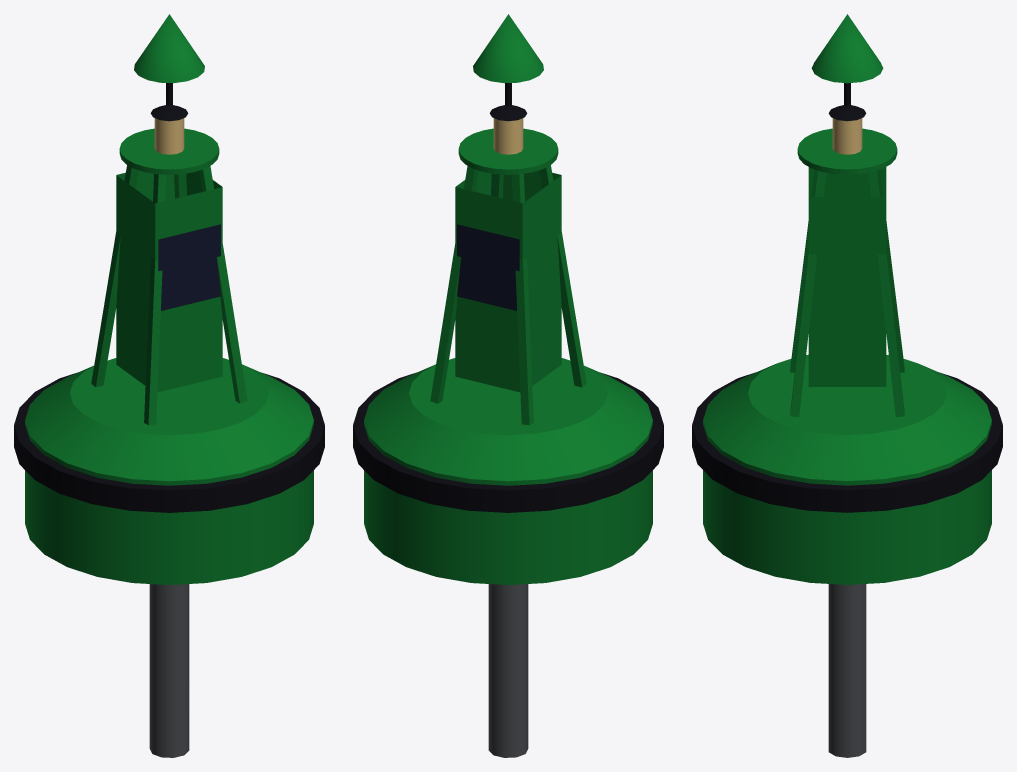
Rendered from buoy_lateral_starboard.glb.
3 views of the same model, side by side, from view 1: azimuth 30°, elevation 25°; view 2: azimuth 150°, elevation 25°; view 3: azimuth 270°, elevation 25° (orthographic).
Parts seen in each view (by area): view 1: buoy_lateral_starboard; view 2: buoy_lateral_starboard; view 3: buoy_lateral_starboard.
Part boxes in pixels (<box>): buoy_lateral_starboard: <box>14,14,324,757</box>; buoy_lateral_starboard: <box>353,14,663,757</box>; buoy_lateral_starboard: <box>692,14,1002,757</box>.
Bounding box in the file's own units: 3.12 × 8.15 × 3.12.
